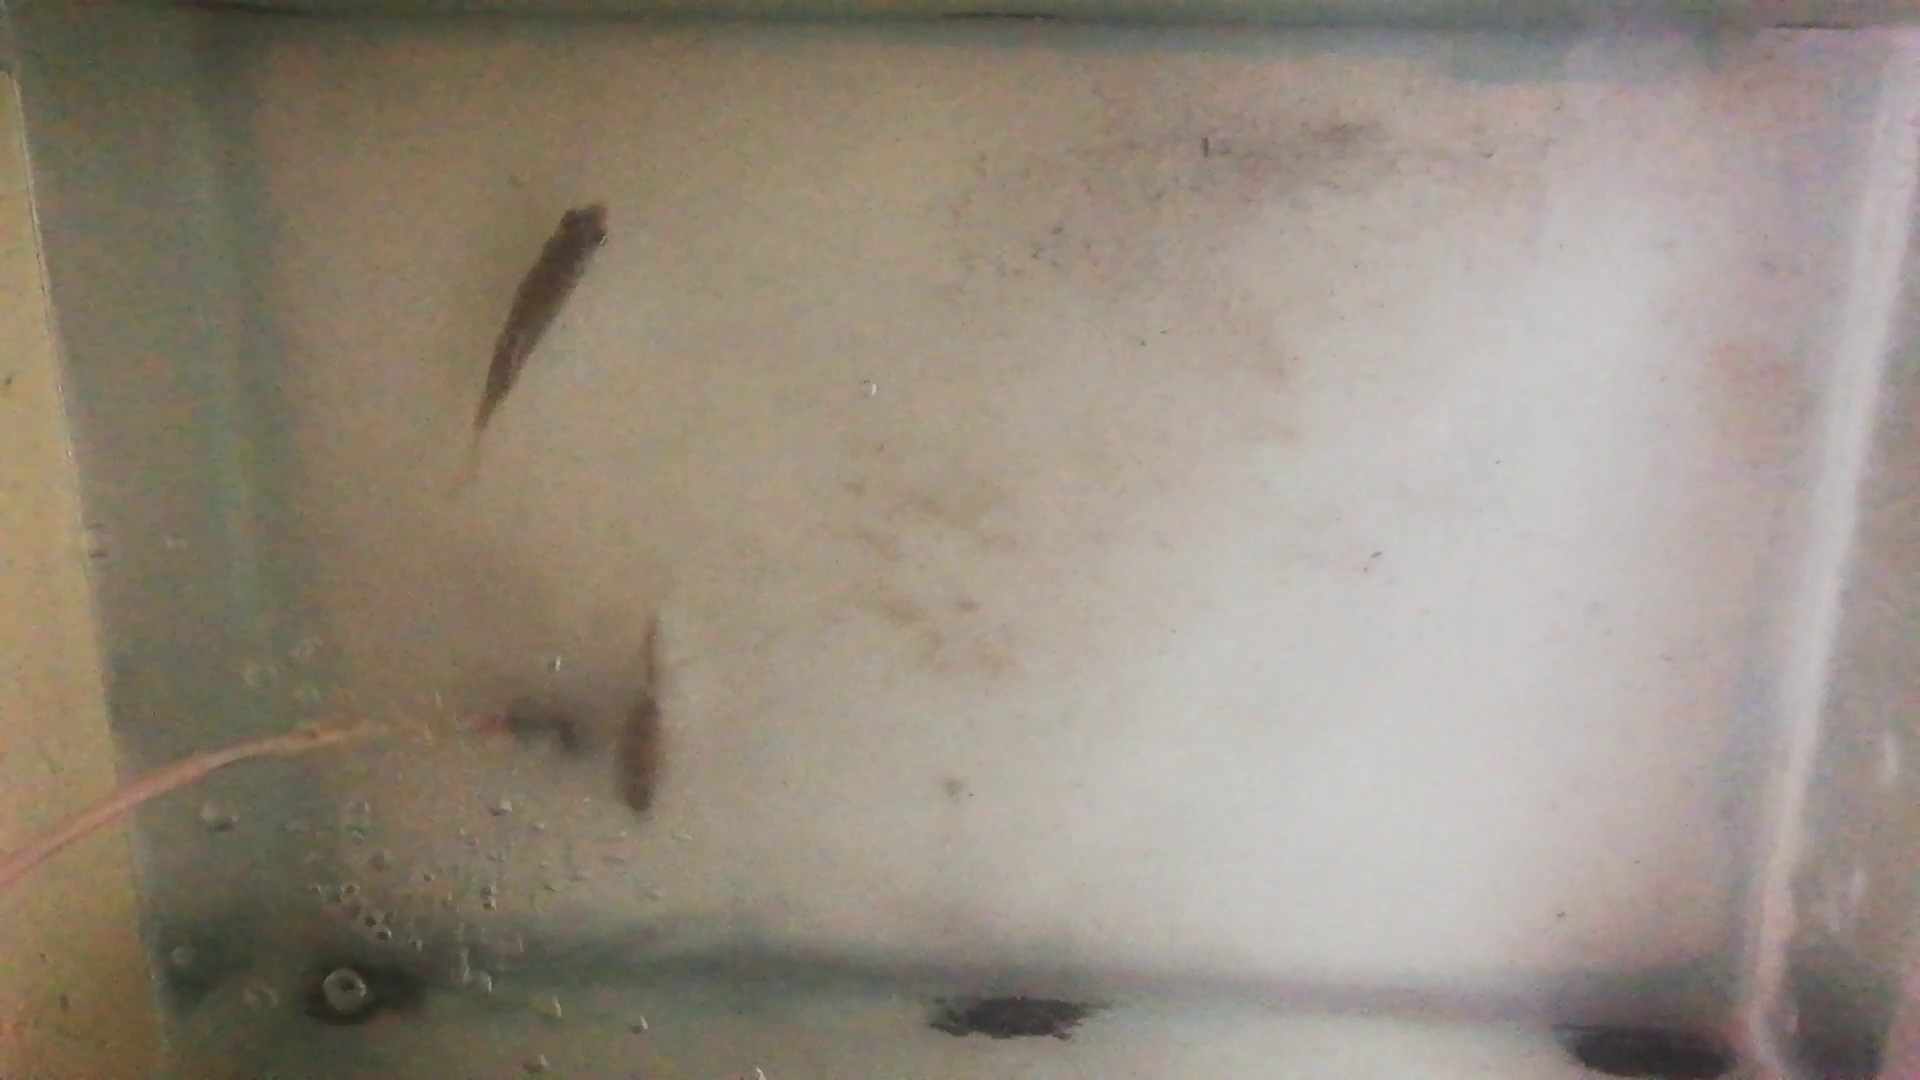fish: (472, 200, 611, 436), (615, 618, 667, 819)
